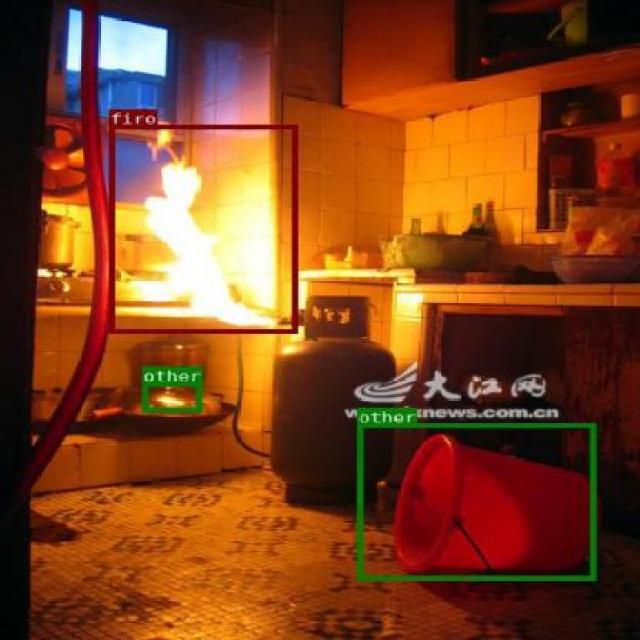Fire: (108, 124, 297, 333)
